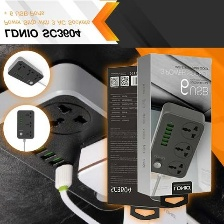book: (132, 52, 213, 198), (103, 61, 172, 209)
three_eye_plug: (0, 59, 175, 214), (5, 55, 44, 86), (13, 107, 36, 141)
